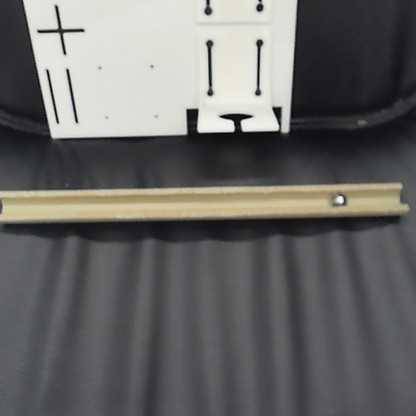ironball: (329, 189, 349, 209)
